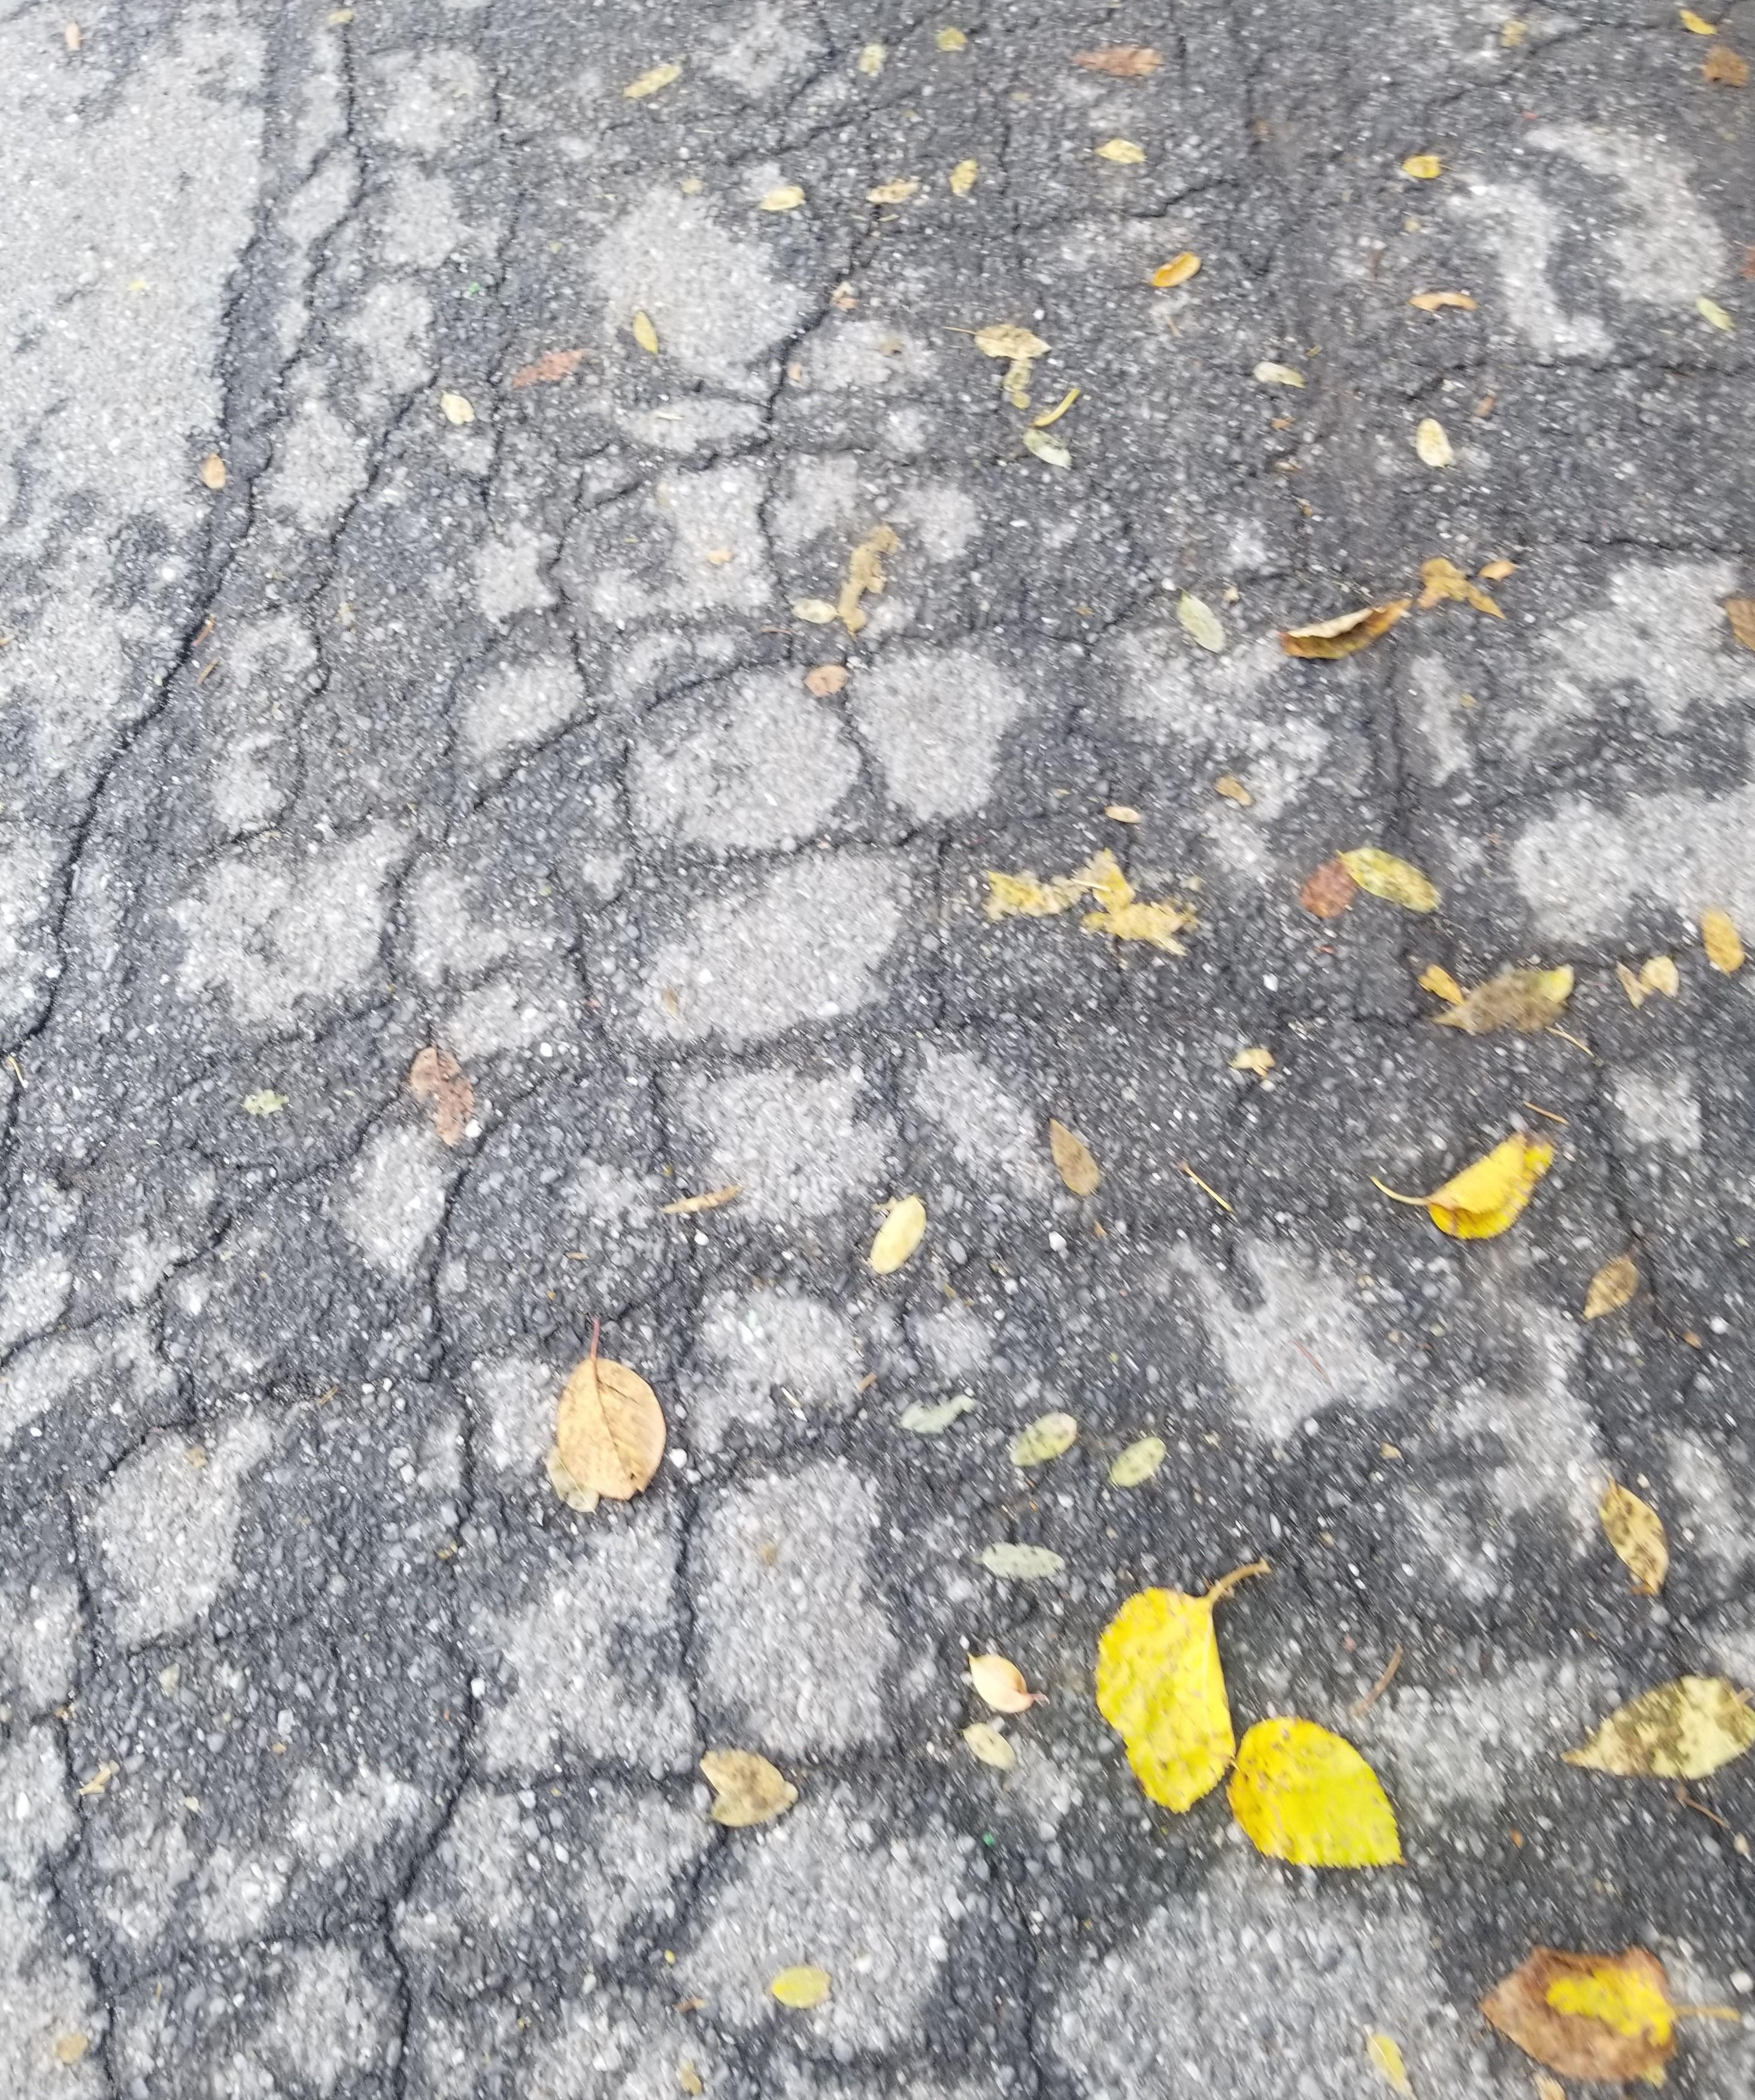alligator-crack: (96, 155, 1551, 2077)
